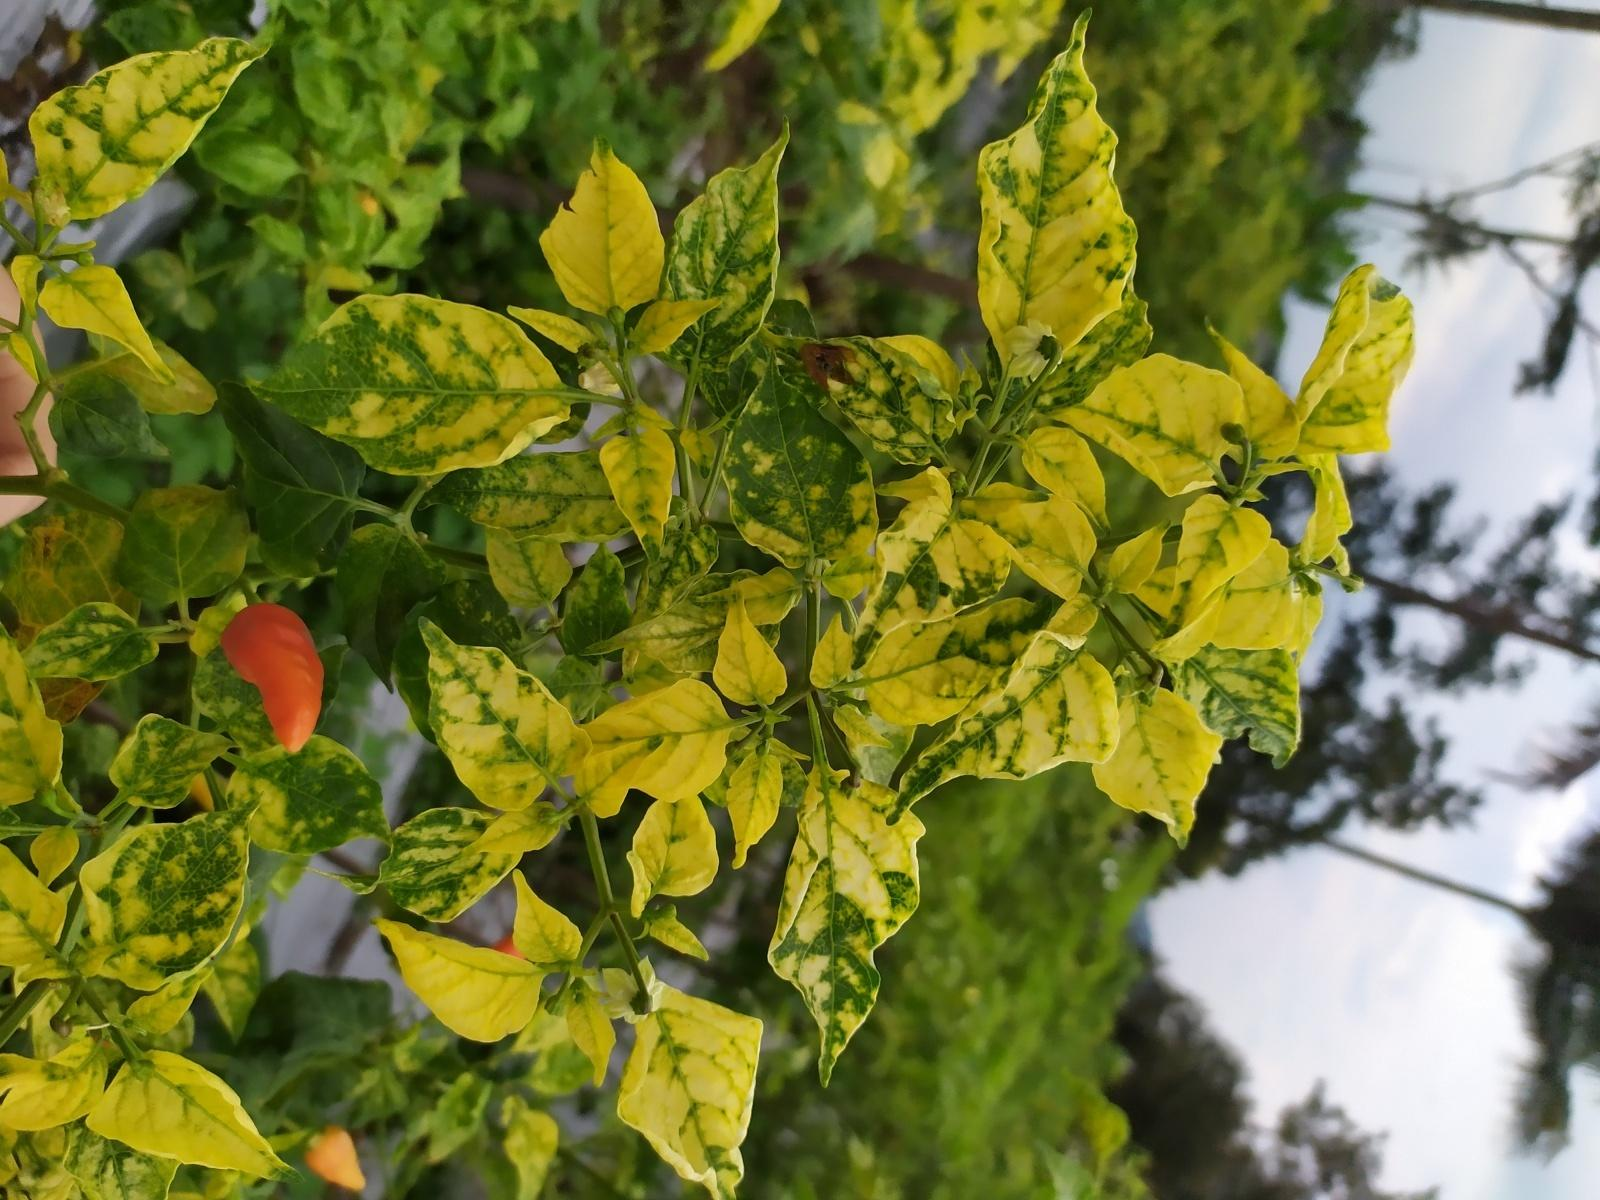cabai_normal: (218, 604, 326, 755)
